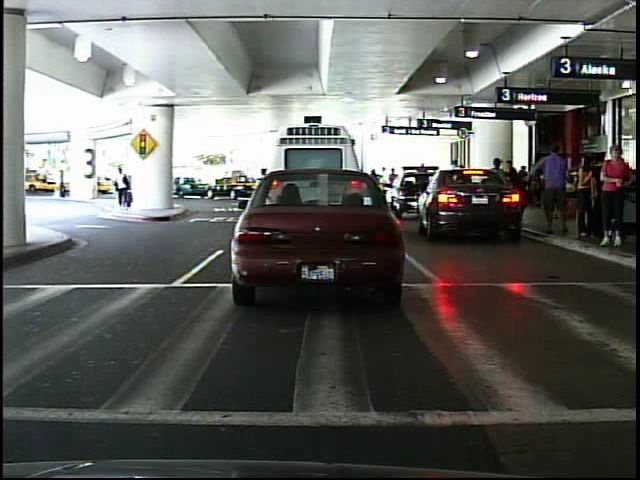person: (598, 141, 632, 253), (107, 158, 139, 212), (57, 164, 72, 202)
